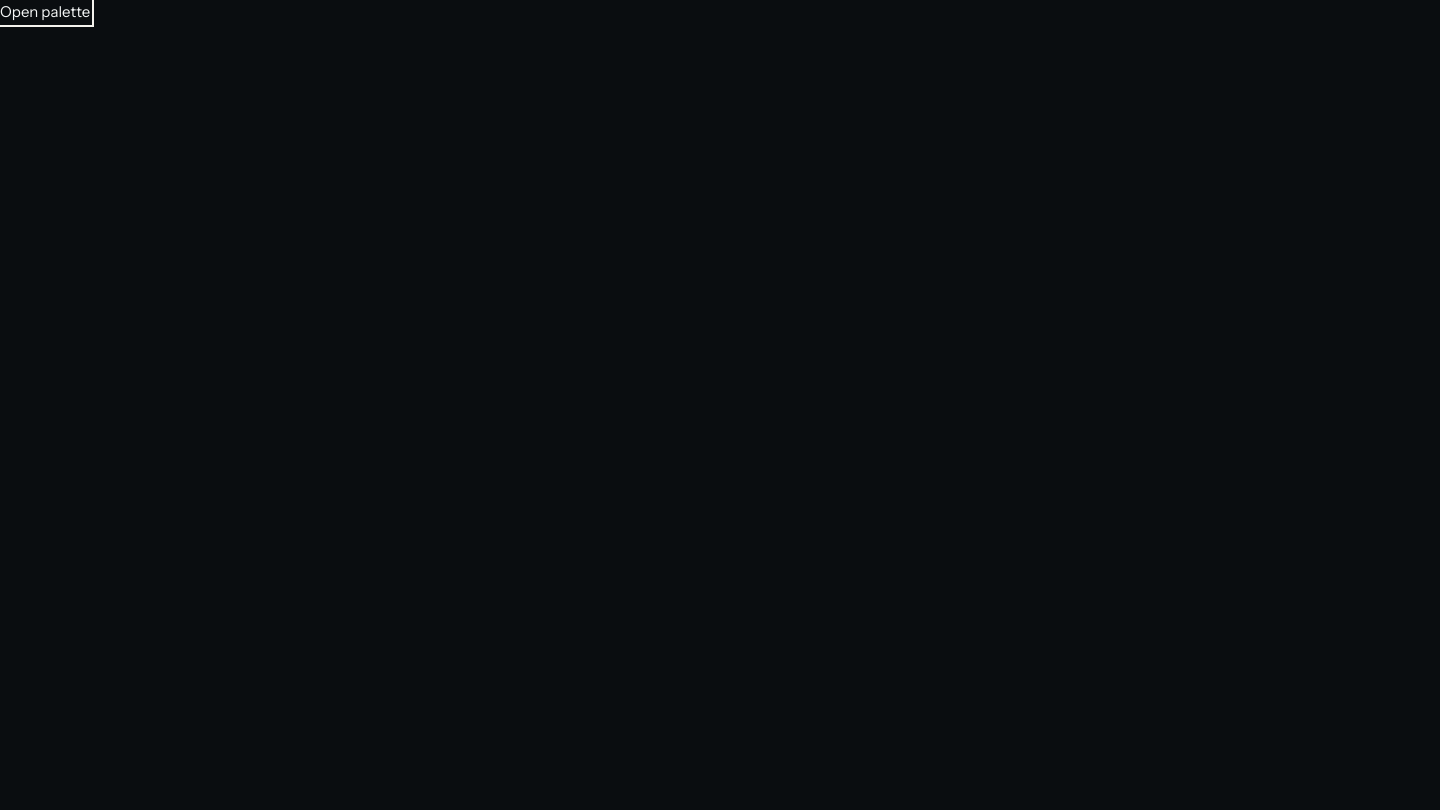
the quick switcher: scope and order (docs/index-spec.md §4.2) › shows people and the commands only when what is typed matches them, after the places
Type keys "{Control>}k{/Control}"
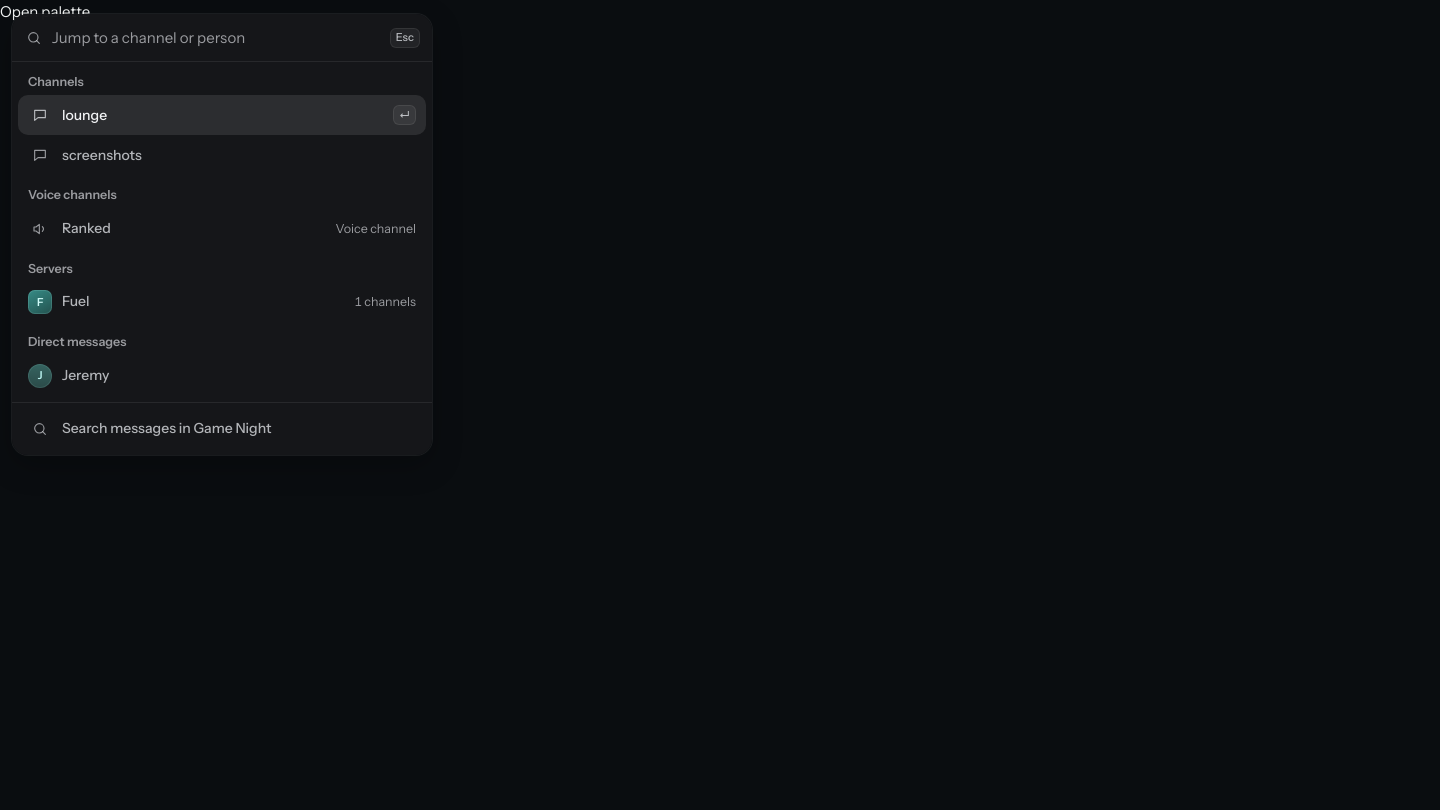
Expected: the option "New message" is not shown
Now the dialog named "Quick switcher" is shown, box [12,14,432,454]
Type "n" into the dropdown named "Search the quick switcher" at (216, 38), box [52,14,380,61]
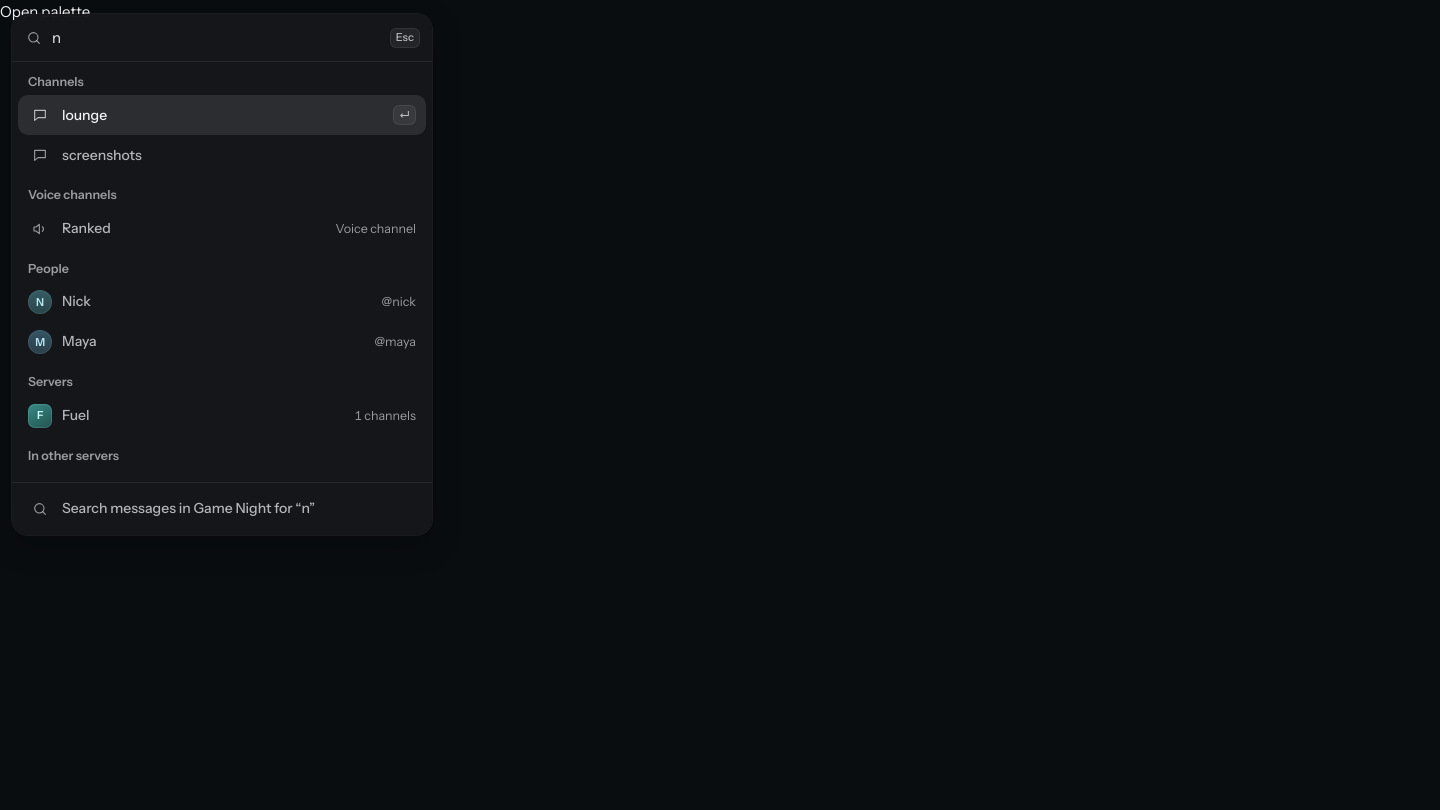
Now the text "People" is shown, box [28,261,69,276]
